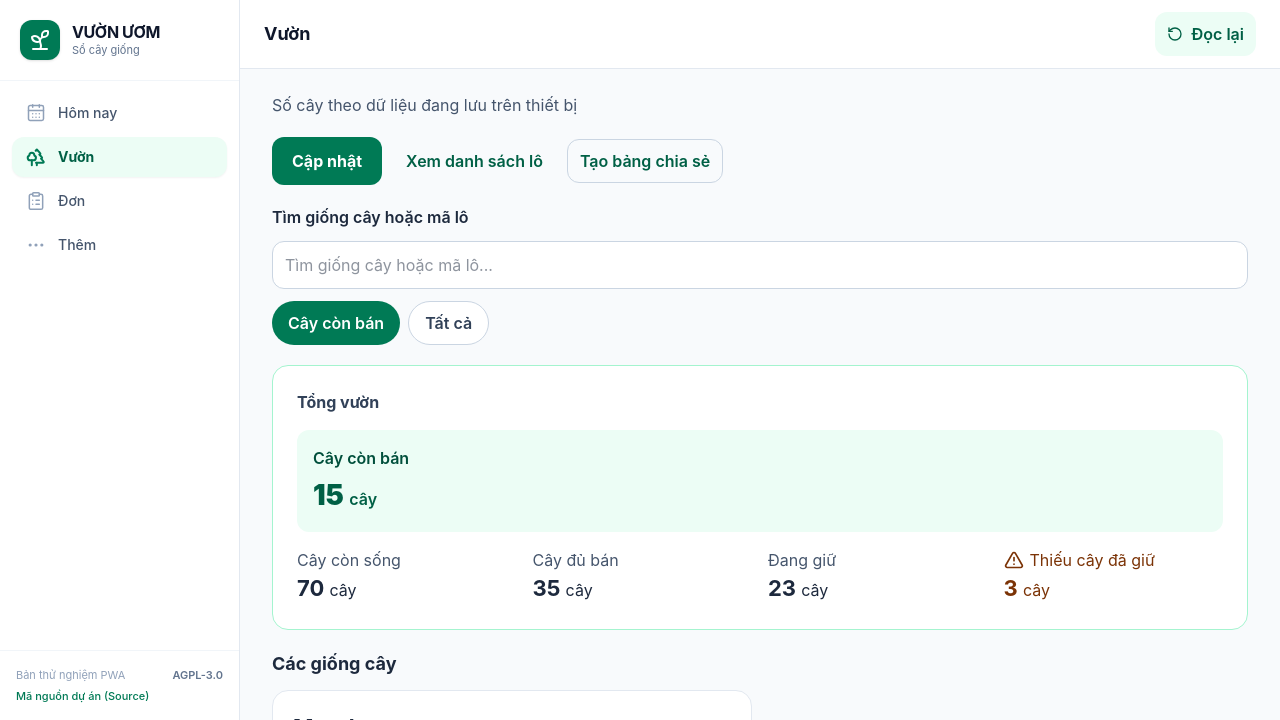
it: Garden availability UI (real Dexie) › renders per-batch fixture 15 available / 3 shortage, retaining both batches for code search
This screenshot has width=1280, height=720.
expect the text "15" is shown: met, box [313,478,344,512]
expect the text "3" is shown: met, box [1004,575,1018,601]
Type "M06" into the search field labelled "Tìm giống cây hoặc mã lô".
click(760, 265); type("M06")  # box [272,241,1248,289]
(page scrolled)
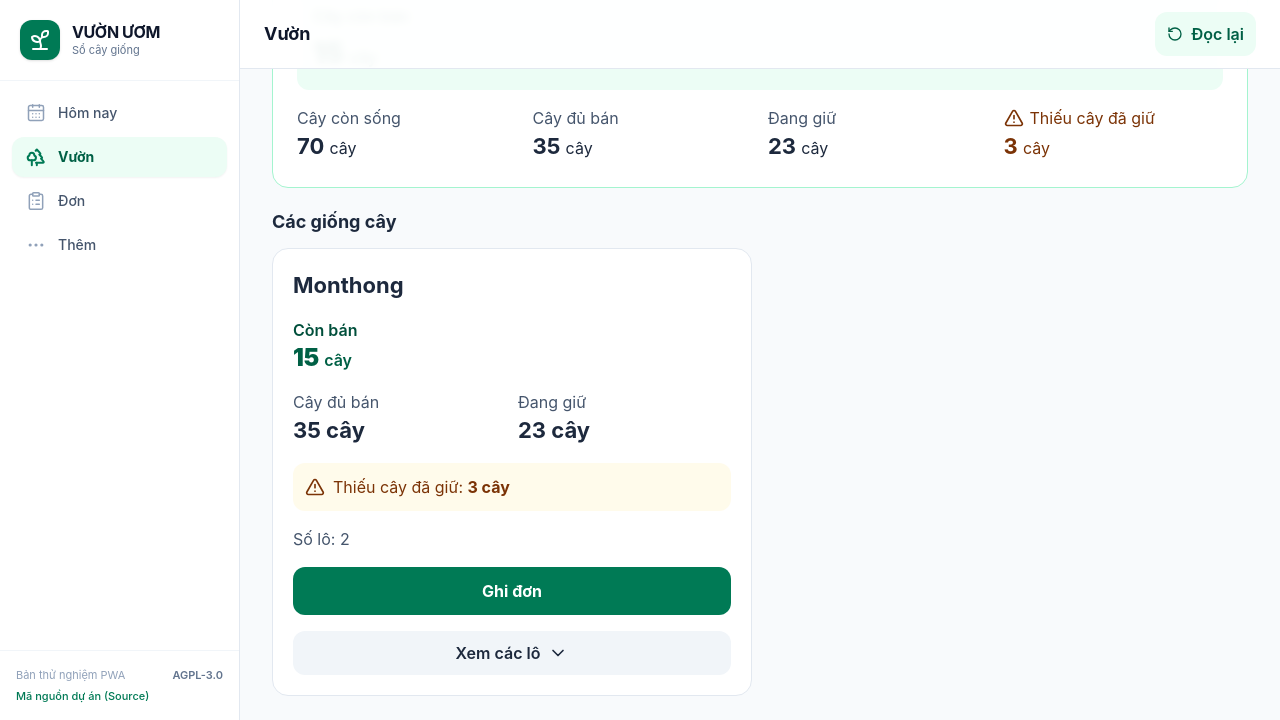
expect the element "Monthong" is shown: met, box [272,248,752,696]
Click the button "Xem các lô".
click(512, 653)  # box [293,631,731,675]
(page scrolled)
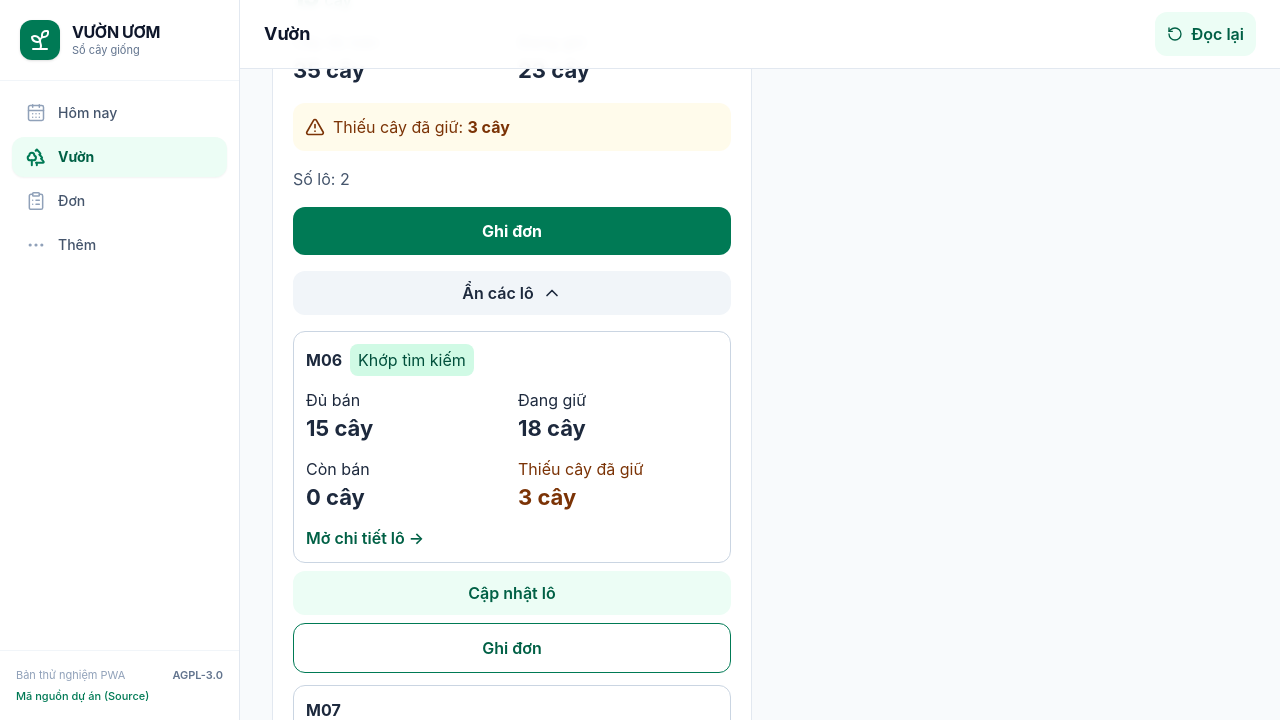
expect the text "Khớp tìm kiếm" is shown: met, box [350,344,474,376]
expect the text "0 cây" is shown: met, box [306,484,365,510]
expect the text "3 cây" below "18" is shown: met, box [518,484,576,510]
